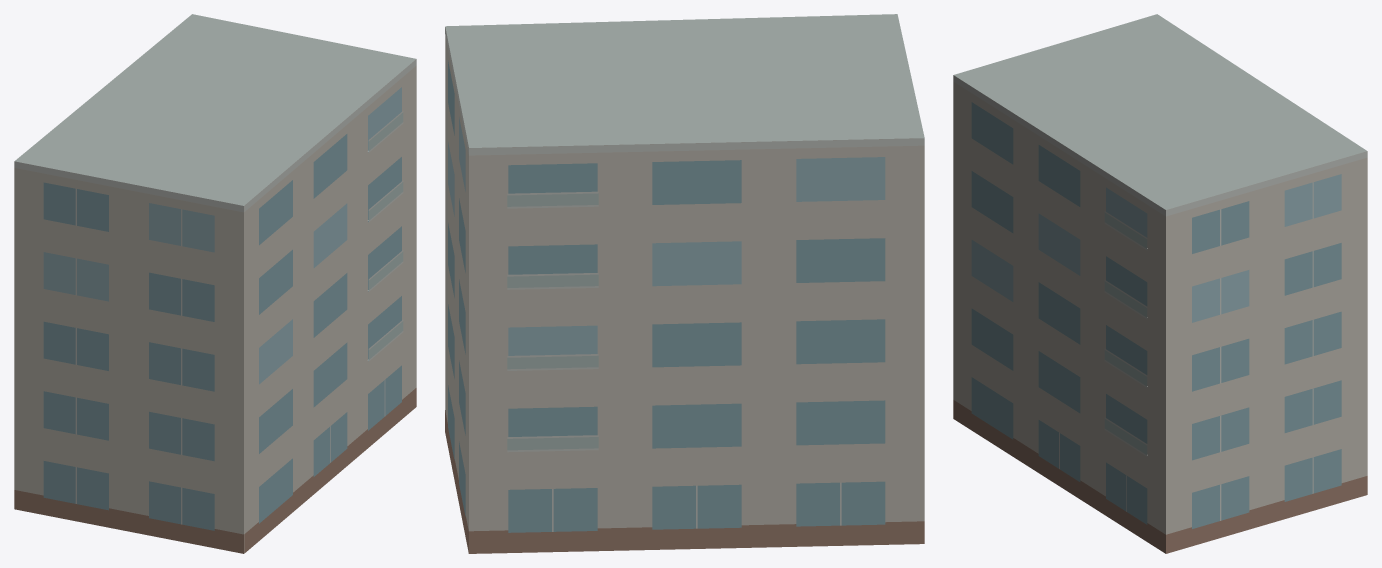
The model's file is survey-upis-32883354.glb.
The picture shows the model from 3 angles, left to right: view 1: azimuth 30°, elevation 25°; view 2: azimuth 150°, elevation 25°; view 3: azimuth 270°, elevation 25°; orthographic projection. The views are drawn at different scales.
Parts seen in each view (by area): view 1: survey-upis-32883354.tmp; view 2: survey-upis-32883354.tmp; view 3: survey-upis-32883354.tmp.
Part boxes in pixels (x1,y1,x2,y2): survey-upis-32883354.tmp: (14, 14, 416, 553); survey-upis-32883354.tmp: (445, 14, 924, 553); survey-upis-32883354.tmp: (953, 14, 1367, 553).
Bounding box in the file's own units: 16.04 × 13.1 × 14.31.
